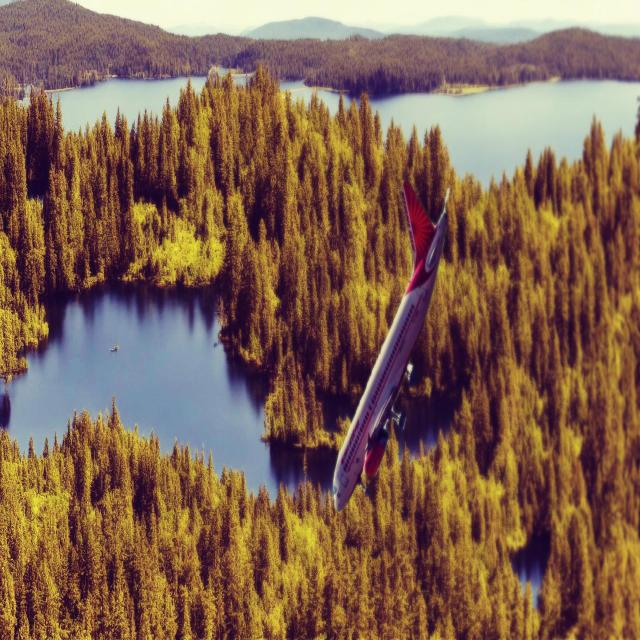airplane: (332, 176, 450, 513)
